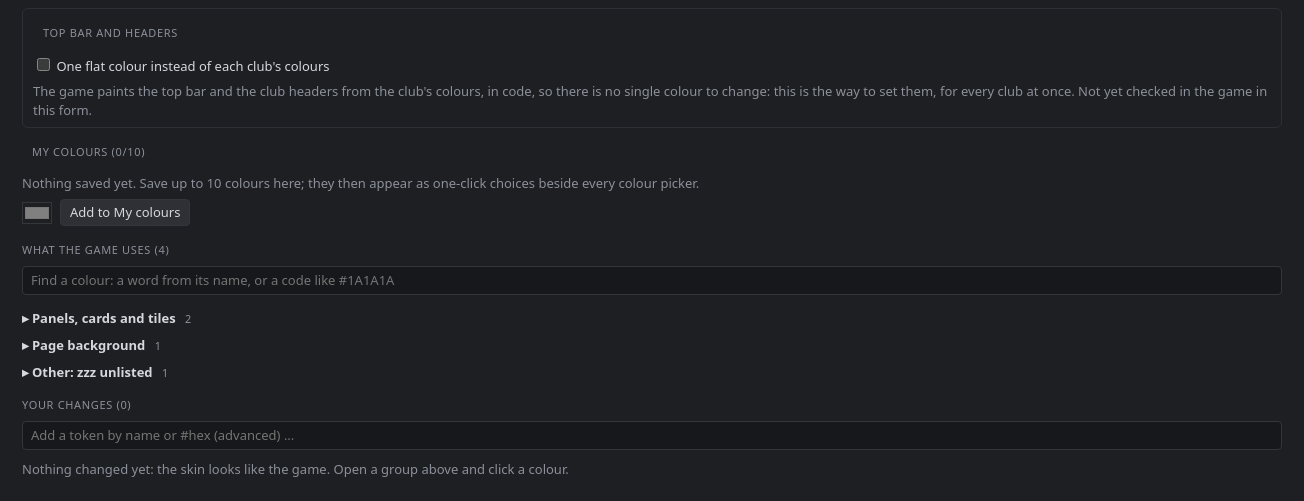
Test: My colours (a personal palette) › starts empty and says what it is for; adding is an explicit action that is remembered
Expected: the element with test id "my-colours" shows "Nothing saved yet", [22, 174, 207, 192]
Expected: the text "MY COLOURS (0/10)" is shown, [32, 144, 145, 160]
Type "#ff8800" into the colour field named "A colour to add to My colours" at (37, 213), box [22, 202, 52, 224]
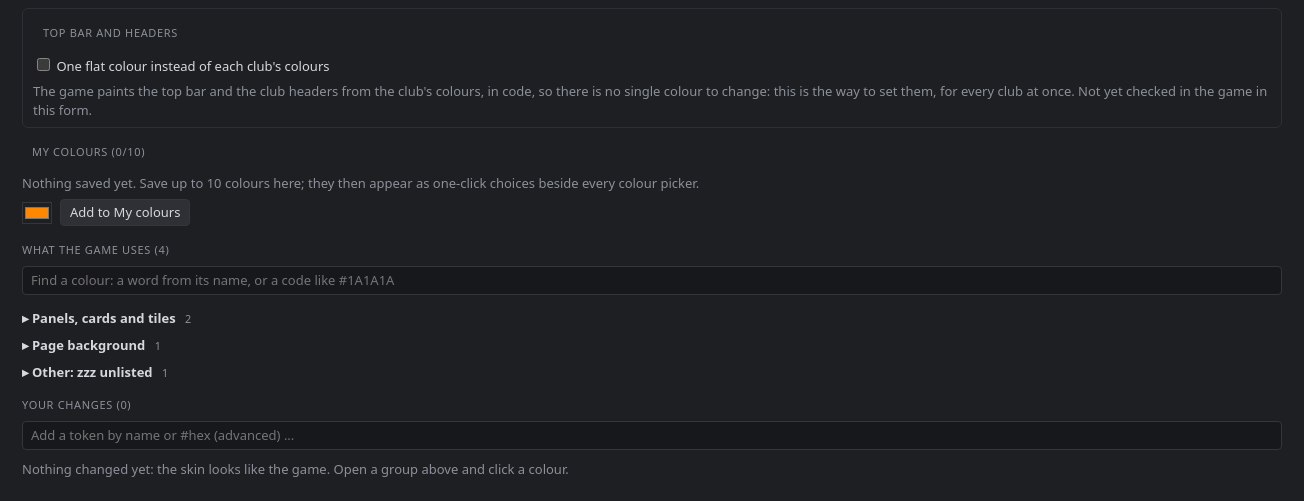
Click the button "Add to My colours" at (125, 213), box [60, 199, 190, 226]
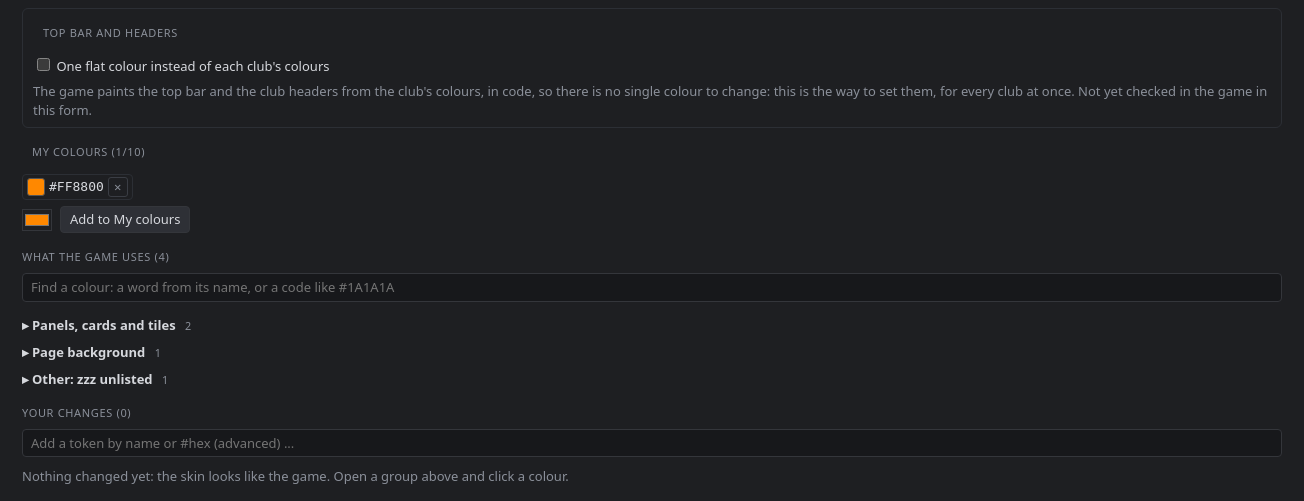
Expected: the button named "Remove #FF8800 from My colours" is shown, [108, 177, 128, 197]
